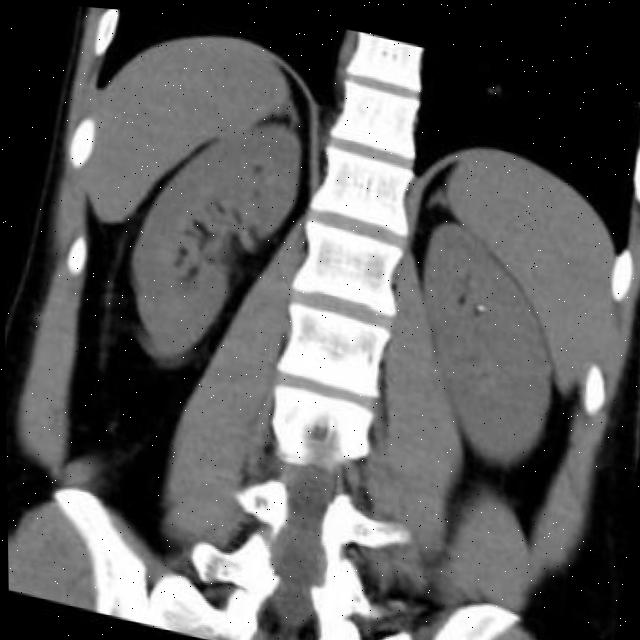Tas_Var: (473, 292, 487, 306)
